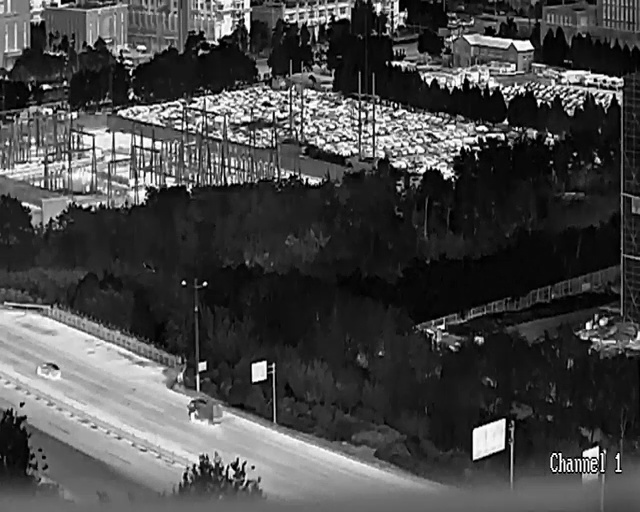uav: (143, 263, 154, 271)
